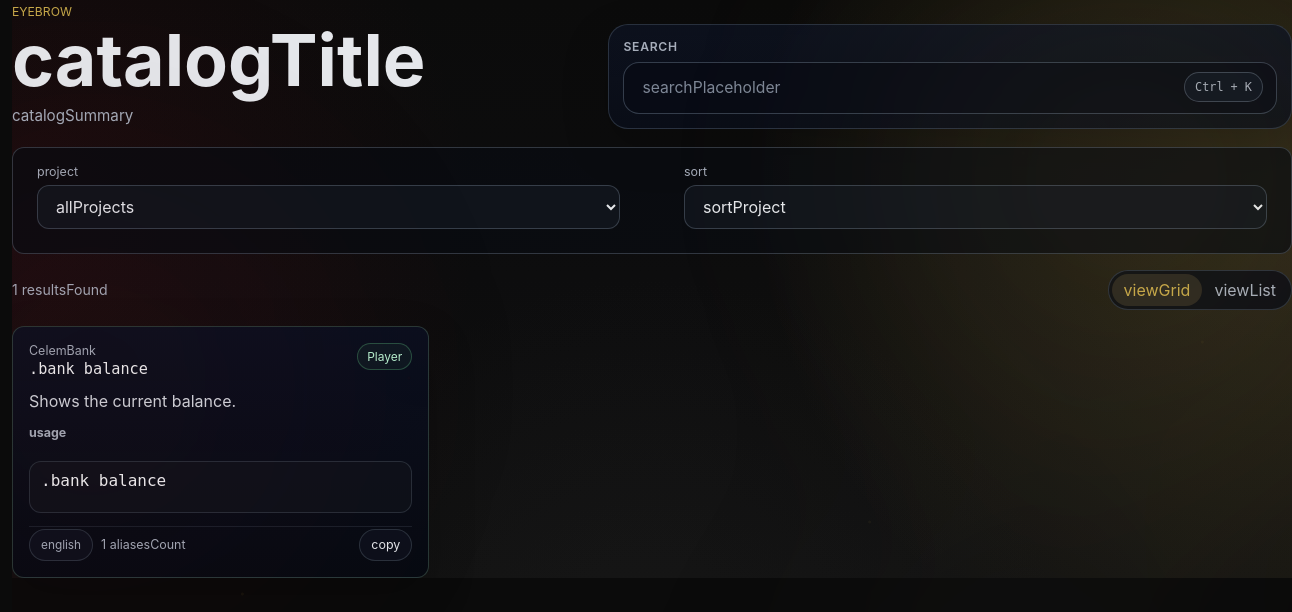
Test case: CommandCatalogComponent › hides admin audience variants from anonymous users before search and pagination
This screenshot has width=1292, height=612.
Type ".bank balance <player>" into the search field labelled "search Ctrl + K".
click(950, 88); type(".bank balance <player>")  # box [623,62,1277,114]
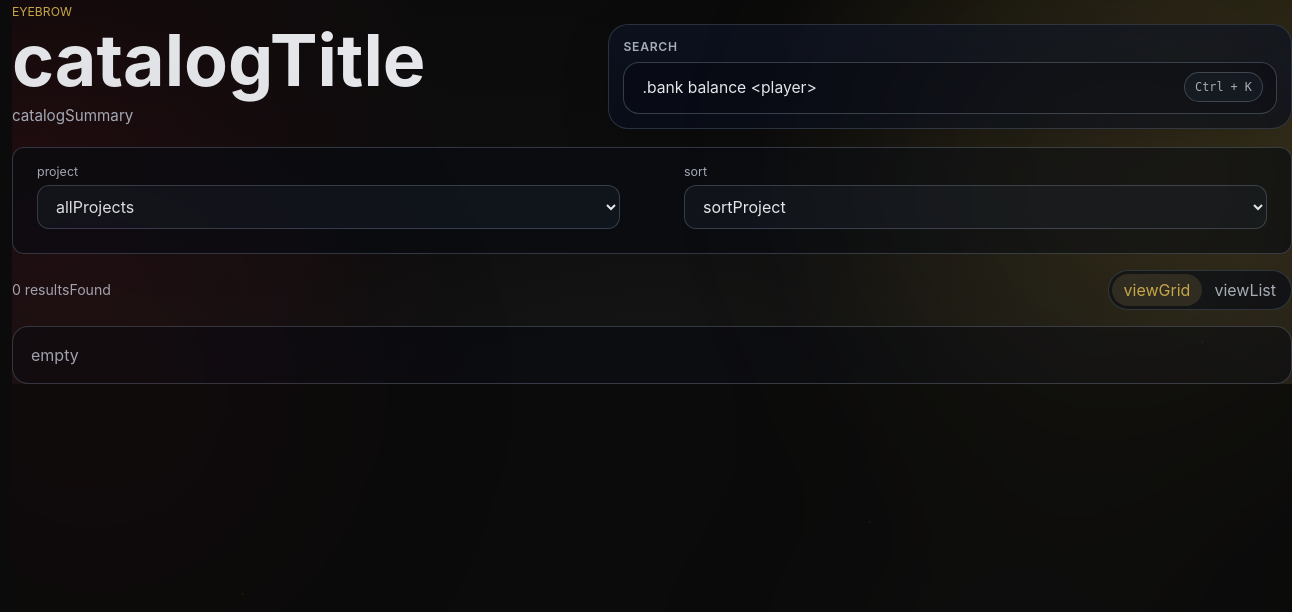
expect the text with class "results-bar__summary" reads "0 resultsFound": met, box [12,281,111,298]
